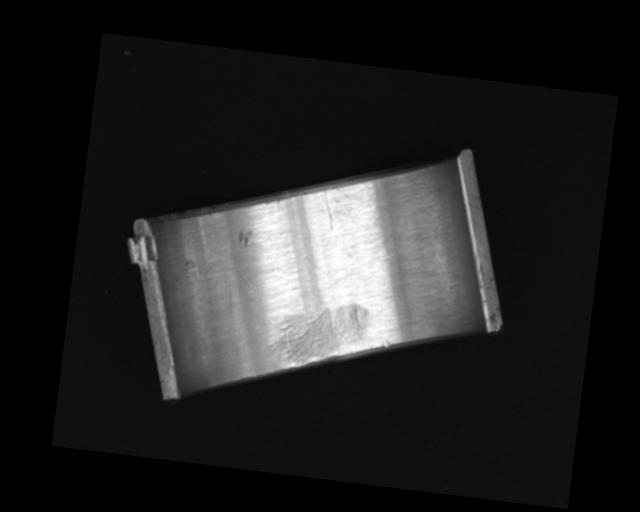bruise: (236, 227, 253, 247), (381, 339, 391, 348)
nick: (317, 187, 339, 231)
scratch: (266, 293, 373, 376)
